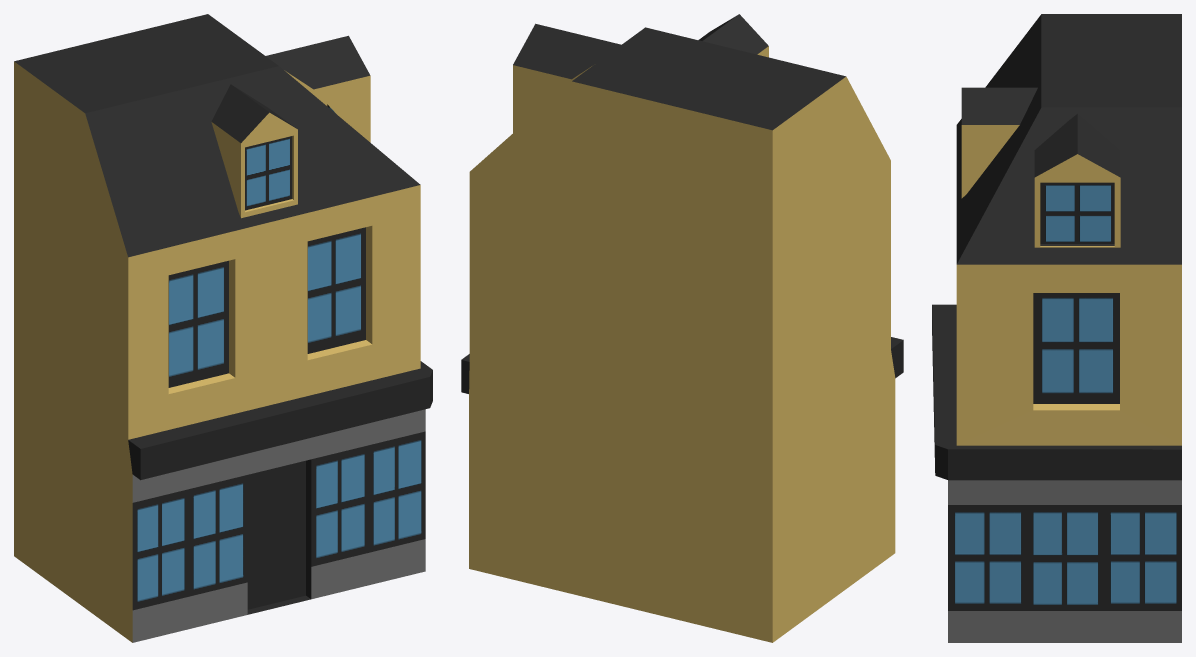
The model's file is ShopYellow.obj.
3 renders of one model, left to right at view 1: azimuth 30°, elevation 25°; view 2: azimuth 150°, elevation 25°; view 3: azimuth 270°, elevation 25°, orthographic. The views are drawn at different scales.
Visible parts, largest first — view 1: SklepikZolty; view 2: SklepikZolty; view 3: SklepikZolty.
Boxes of the visible parts, bbox=[...] form: SklepikZolty: bbox=[14, 14, 432, 642]; SklepikZolty: bbox=[461, 14, 903, 642]; SklepikZolty: bbox=[932, 14, 1181, 642].
Bounding box in the file's own units: 5.13 × 8.07 × 3.74.
